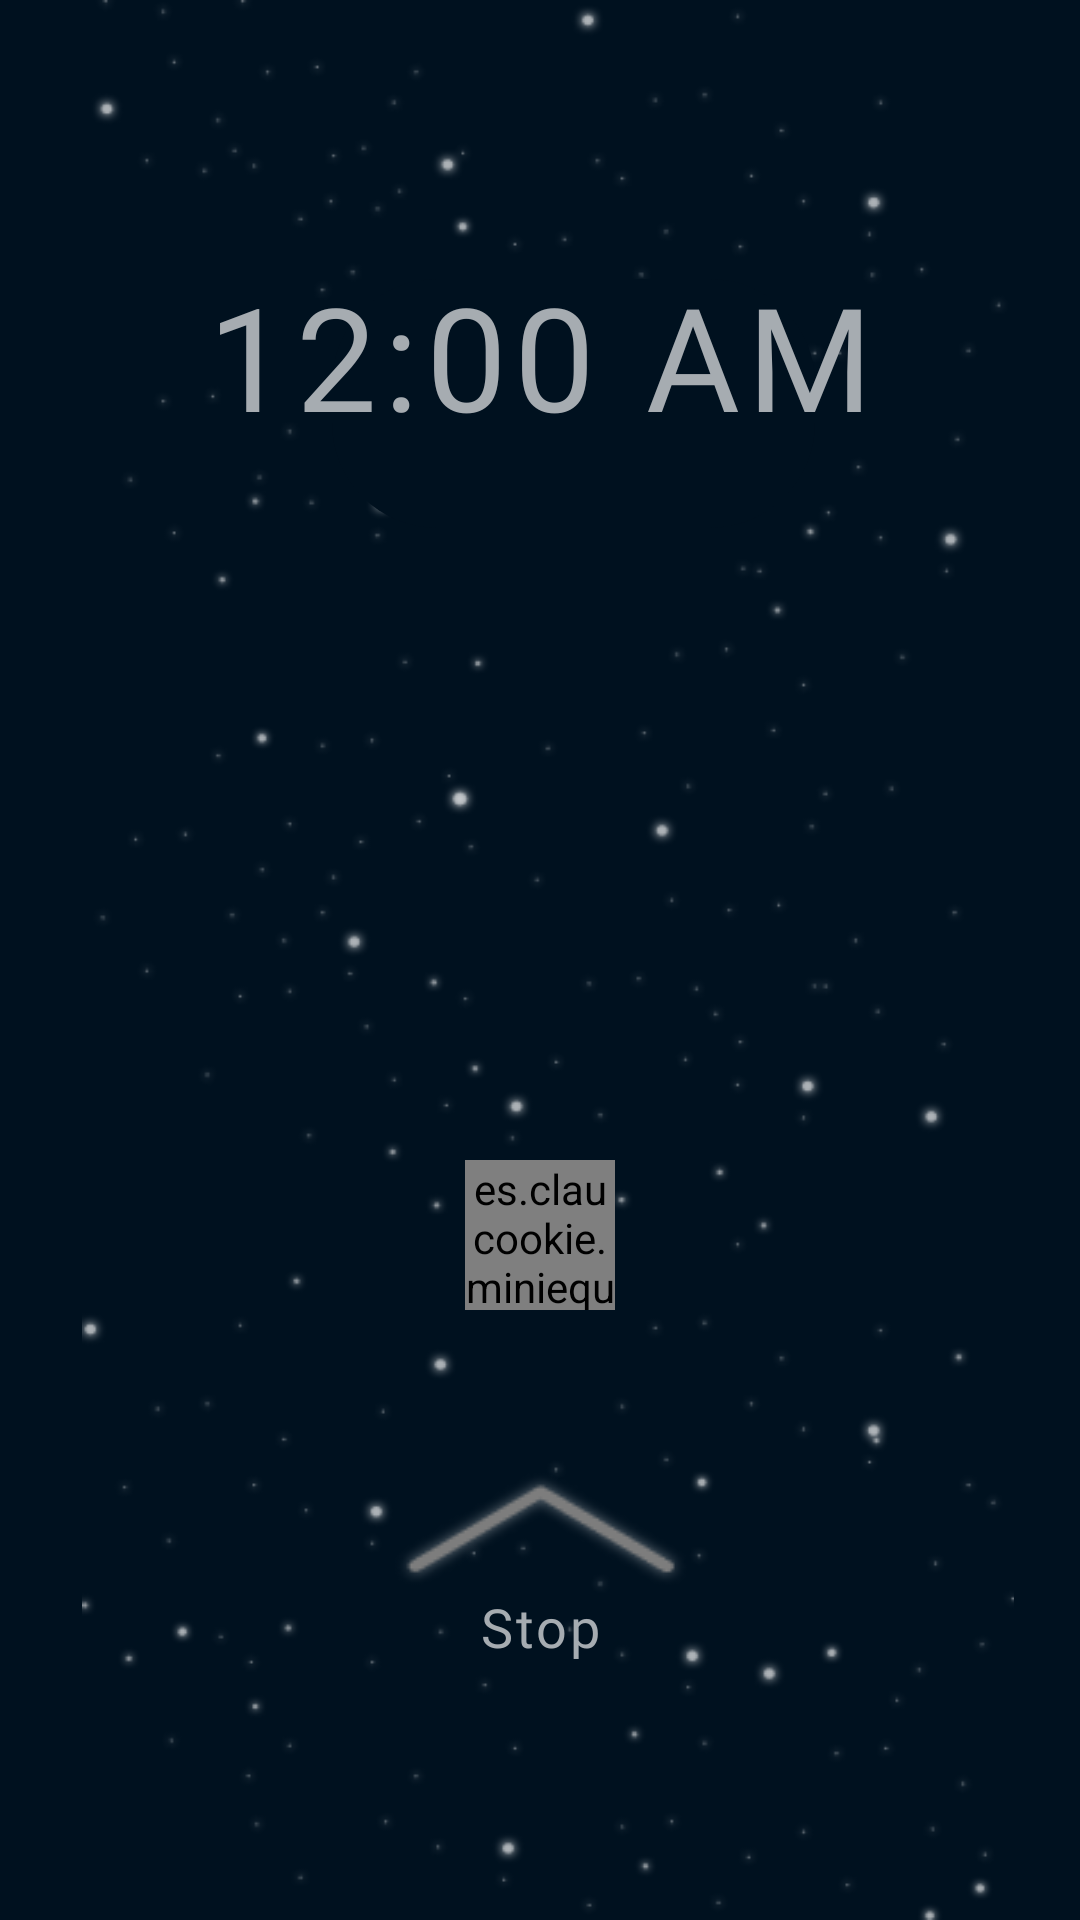

Where to tap for icons on this 1080×1920 app screen, as point (x, y):
wide arrow: point (540, 1528)
